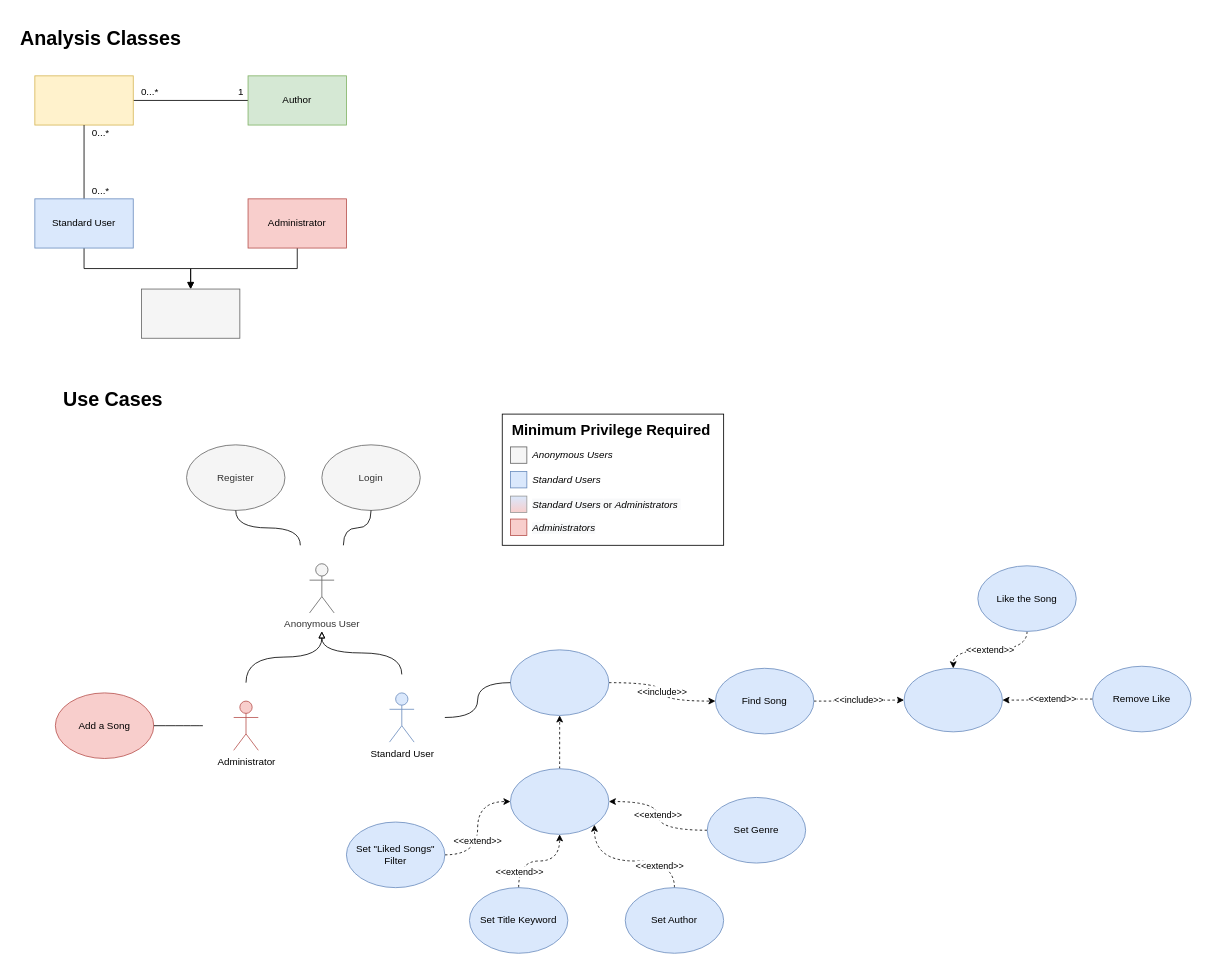
The diagram is 1205 pixels wide and 968 high, and some of its shapes have lost their labels. Here are the shapes that lost their labels. From the top down, the box of each, then its label:
(34, 75, 133, 125): Song
(141, 288, 240, 338): User
(510, 649, 609, 715): Browse Songs
(903, 667, 1002, 732): View Song Details
(510, 768, 609, 834): Set Parameters
